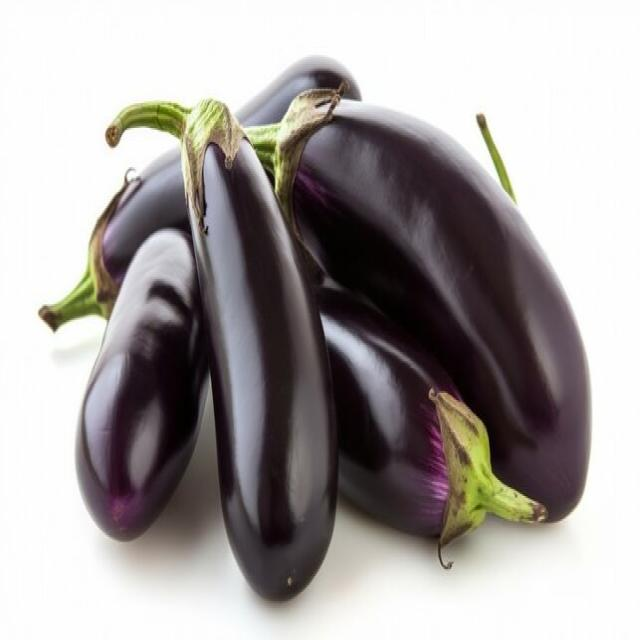Eggplant: (244, 64, 606, 521), (102, 76, 350, 601), (312, 279, 548, 569), (74, 224, 209, 542), (37, 142, 189, 332)
